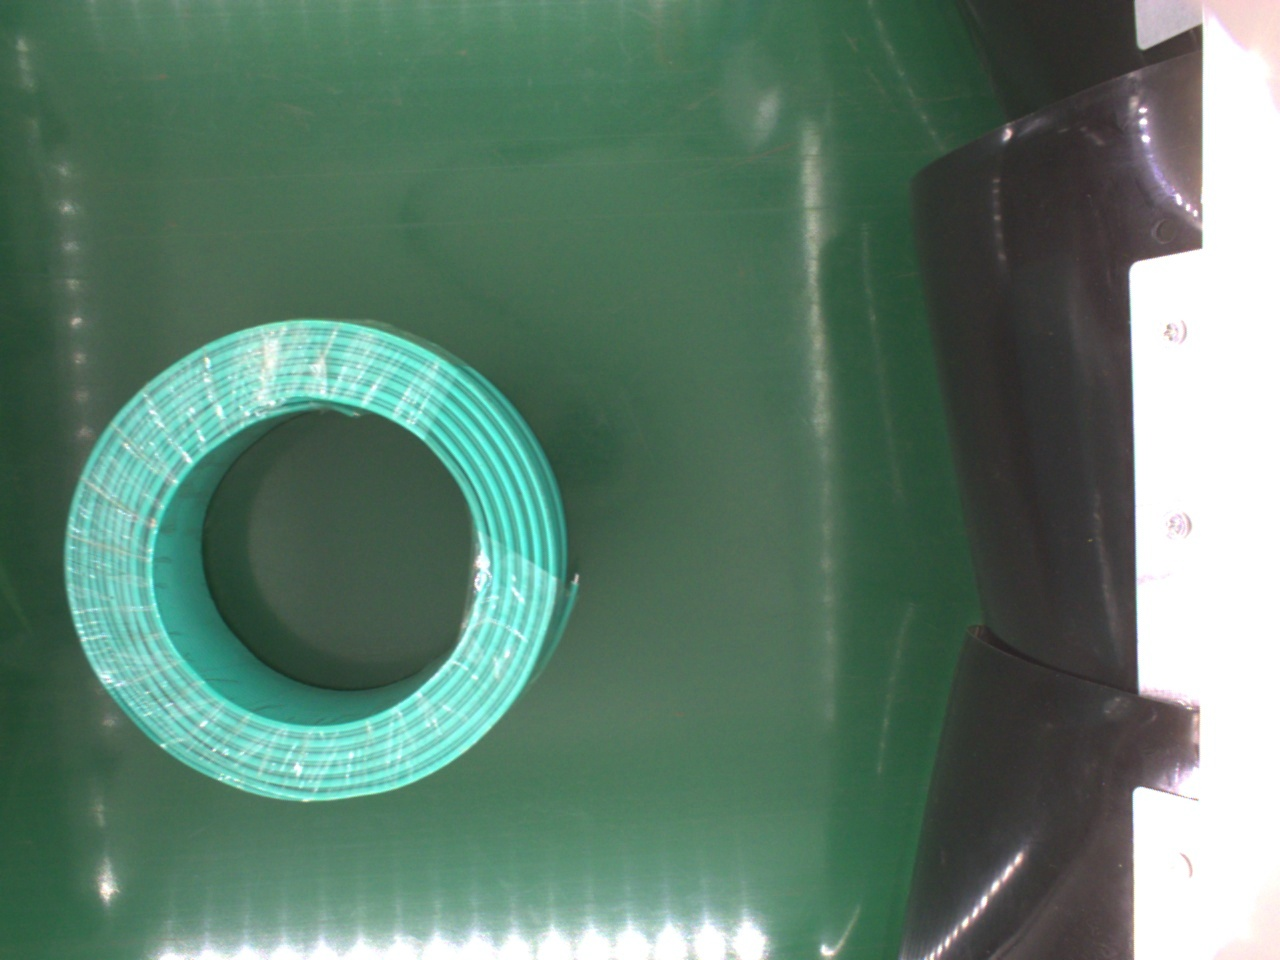green: (55, 318, 579, 806)
